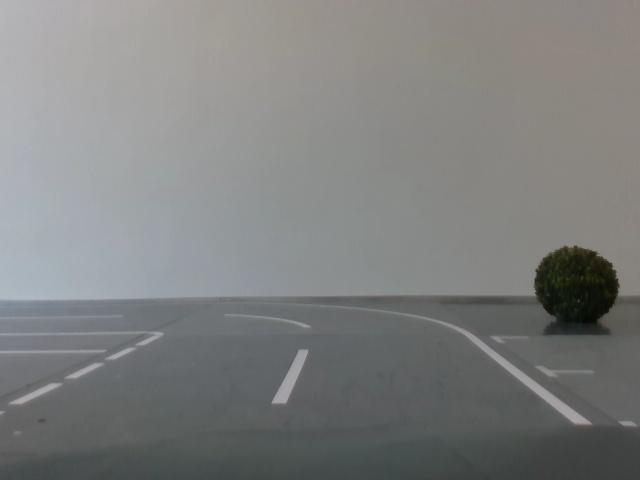potted plant: (530, 242, 624, 331)
